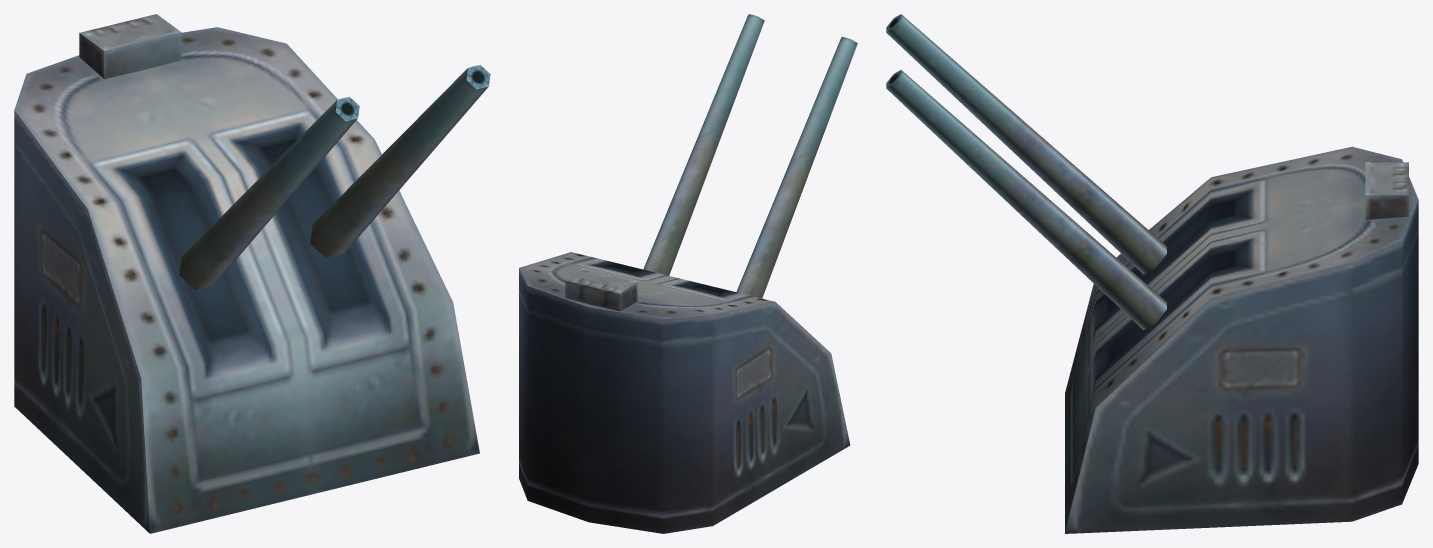
The model's file is obj_jianpao02.FBX.
3 renders of one model, left to right at view 1: azimuth 30°, elevation 25°; view 2: azimuth 150°, elevation 25°; view 3: azimuth 270°, elevation 25°, orthographic. The views are drawn at different scales.
Parts seen in each view (by area): view 1: obj_jianpao02; view 2: obj_jianpao02; view 3: obj_jianpao02.
Part boxes in pixels (<box>): obj_jianpao02: <box>14,14,490,533</box>; obj_jianpao02: <box>519,14,857,533</box>; obj_jianpao02: <box>886,14,1418,533</box>.
Size of the model in its own units: 38.21 by 61.16 by 53.13.
